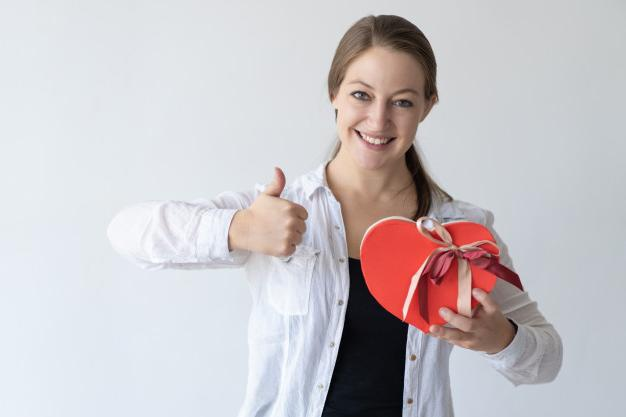thumbsup: (263, 167, 308, 256)
